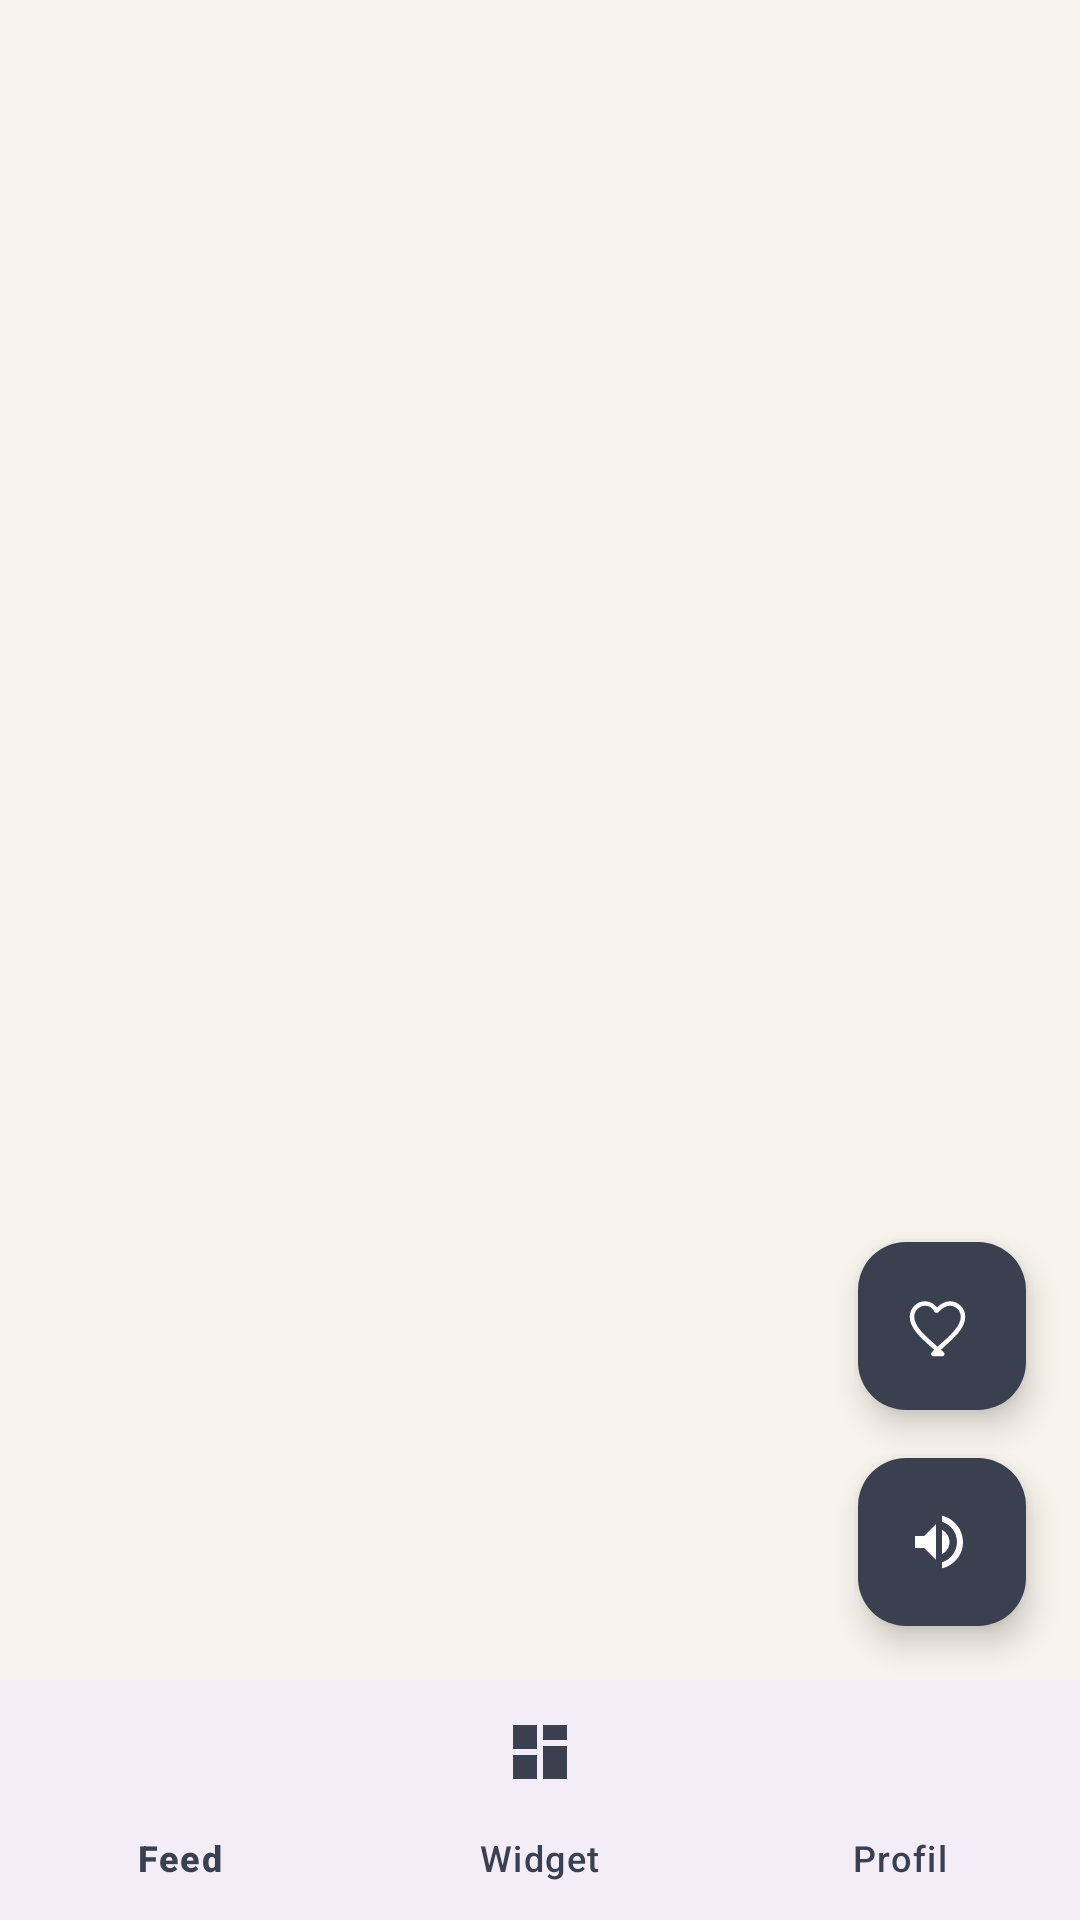

Icon bounding boxes for this 1080px×1920px phone screenshot, format [left=x1, top=y1, right=x2, bottom=y2]:
heart: [left=858, top=1242, right=1026, bottom=1410]
Lire le verset: [left=858, top=1458, right=1026, bottom=1626]
